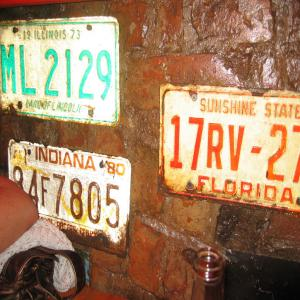Vehicle-registration-plate: (159, 85, 300, 217), (11, 139, 137, 251), (1, 17, 121, 128)
